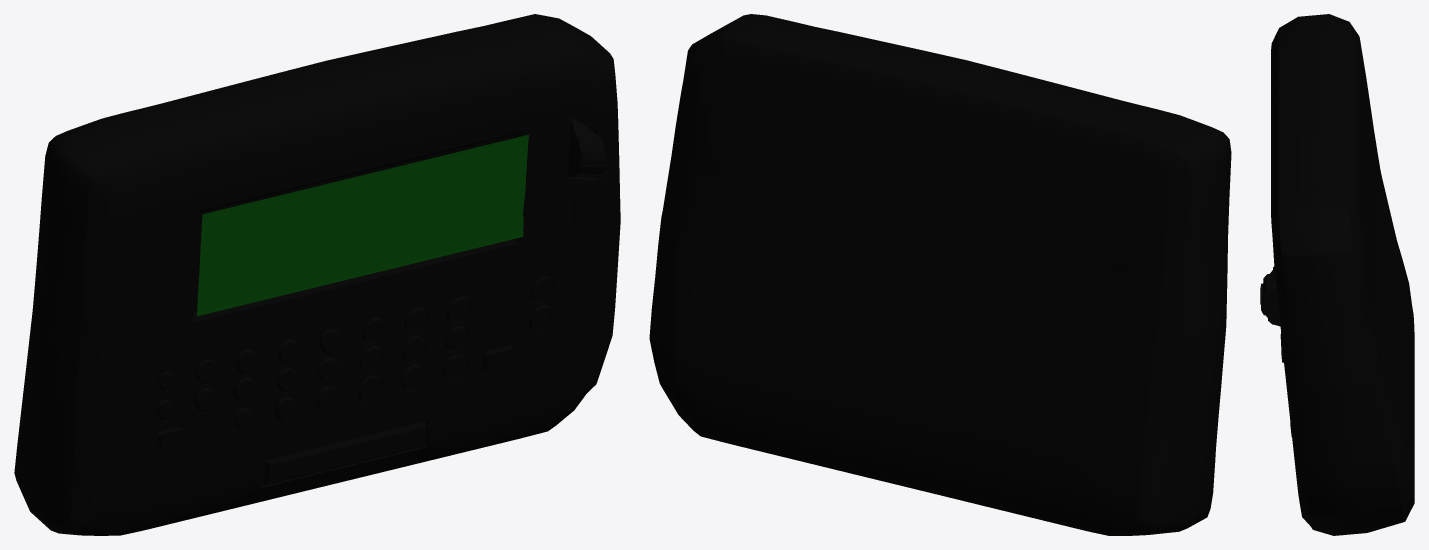
Rendered from Pager.glb.
The picture shows the model from 3 angles, left to right: view 1: azimuth 30°, elevation 25°; view 2: azimuth 150°, elevation 25°; view 3: azimuth 270°, elevation 25°; orthographic projection. The views are drawn at different scales.
Visible parts, largest first — view 1: polySurface1, polySurface2, pCylinder1; view 2: polySurface1; view 3: polySurface1, pCylinder1.
Boxes of the visible parts, box(x1,y1,x2,y2) form: polySurface1: box(14, 14, 620, 535); polySurface2: box(197, 134, 528, 316); pCylinder1: box(568, 117, 606, 177); polySurface1: box(649, 14, 1231, 535); polySurface1: box(1271, 14, 1414, 535); pCylinder1: box(1260, 266, 1280, 326).
Size of the model in its own units: 3.56 by 2.49 by 1.03.
Materials: 3 (1 with a texture image).
